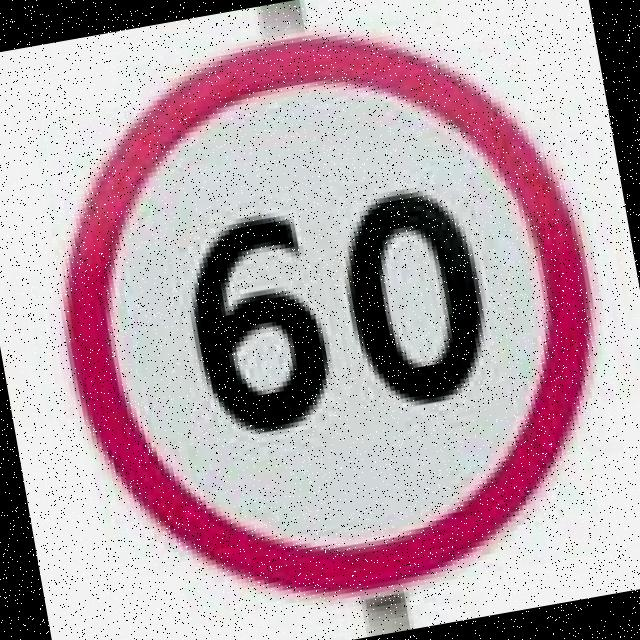Ograniczenie predkosci do 60: (20, 0, 631, 638)
